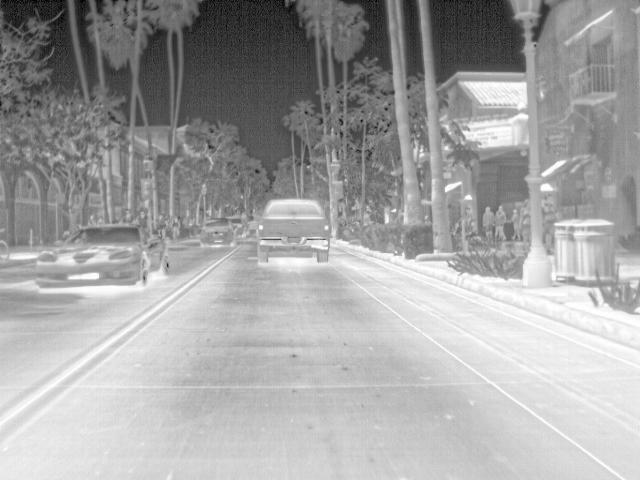car: (33, 220, 167, 287), (254, 198, 330, 263), (198, 220, 234, 246)
person: (543, 196, 557, 254), (516, 204, 530, 252), (495, 202, 509, 243), (507, 207, 523, 242), (481, 204, 495, 242), (132, 206, 152, 232), (154, 212, 168, 239), (170, 214, 183, 242), (117, 206, 135, 222), (420, 212, 434, 228), (84, 211, 99, 225)
